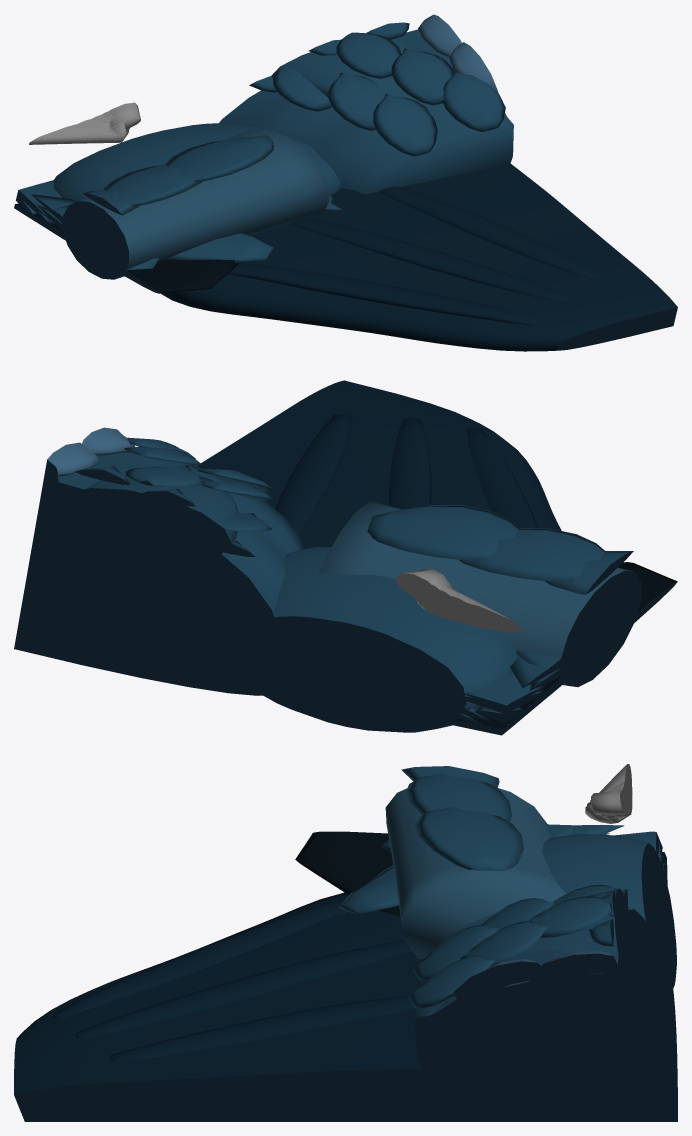
Rendered from gryphon_83.glb.
3 renders of one model, top to bottom at view 1: azimuth 30°, elevation 25°; view 2: azimuth 150°, elevation 25°; view 3: azimuth 270°, elevation 25°, orthographic. The views are drawn at different scales.
Parts seen in each view (by area): view 1: gryphon_83; view 2: gryphon_83; view 3: gryphon_83.
Part boxes in pixels (box(x1,y1,x2,y2)): gryphon_83: box(14, 14, 677, 351); gryphon_83: box(14, 380, 677, 735); gryphon_83: box(14, 764, 677, 1121).
Bounding box in the file's own units: 24 × 8.01 × 28.46.
